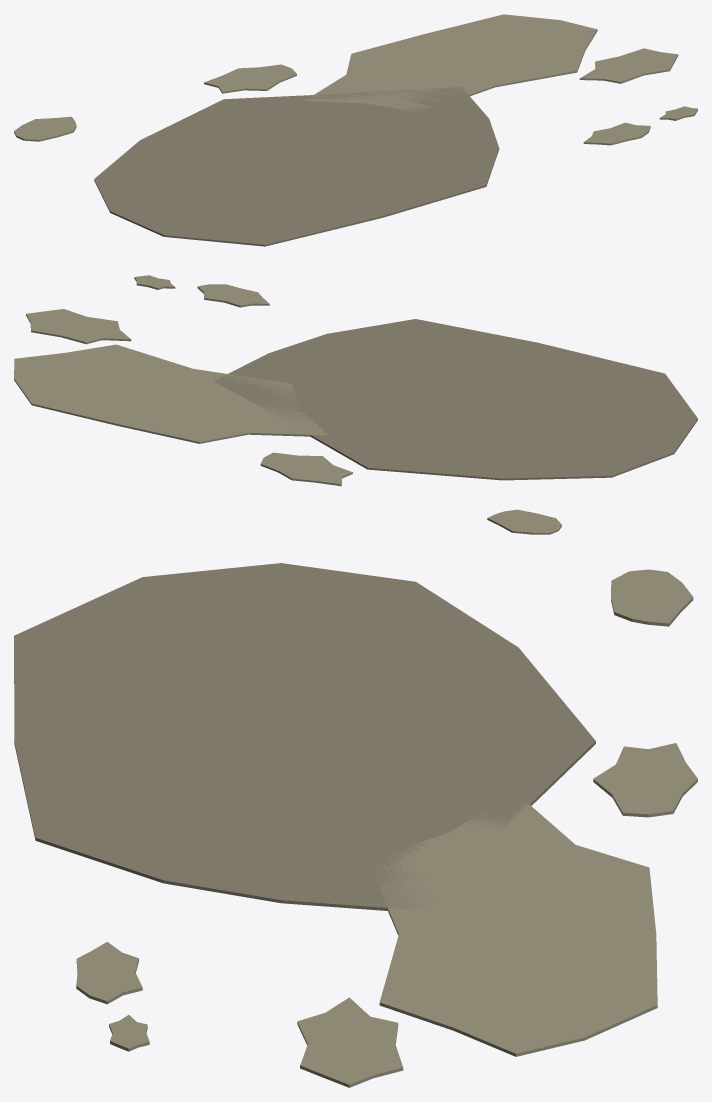
Rendered from Mess-FloorGrime.fbx.
3 views of the same model, one above another, from view 1: azimuth 30°, elevation 25°; view 2: azimuth 150°, elevation 25°; view 3: azimuth 270°, elevation 25° (orthographic). The views are drawn at different scales.
Visible parts, largest first — view 1: Main Scuff, Adjacent Smear, Scuff Fragment.001, Scuff Fragment.004, Scuff Fragment, Scuff Fragment.002; view 2: Main Scuff, Adjacent Smear, Scuff Fragment.001, Scuff Fragment.004, Scuff Fragment, Scuff Fragment.002, Scuff Fragment.003; view 3: Main Scuff, Adjacent Smear, Scuff Fragment.001, Scuff Fragment.004, Scuff Fragment, Scuff Fragment.002, Scuff Fragment.003.
Boxes of the visible parts, x1,y1,x2,y2 form: Main Scuff: (94,87,499,246); Adjacent Smear: (304,14,597,111); Scuff Fragment.001: (579,48,678,83); Scuff Fragment.004: (204,64,296,93); Scuff Fragment: (14,116,76,141); Scuff Fragment.002: (583,122,650,145); Main Scuff: (214,319,697,480); Adjacent Smear: (14,344,327,443); Scuff Fragment.001: (26,309,131,344); Scuff Fragment.004: (260,452,352,486); Scuff Fragment: (487,509,561,534); Scuff Fragment.002: (197,284,269,307); Scuff Fragment.003: (134,275,175,289); Main Scuff: (14,563,595,910); Adjacent Smear: (374,801,657,1056); Scuff Fragment.001: (297,997,403,1087); Scuff Fragment.004: (593,743,697,817); Scuff Fragment: (611,569,693,626); Scuff Fragment.002: (76,941,142,1004); Scuff Fragment.003: (109,1015,149,1051).
Size of the model in its own units: 0.6887 by 0.0019 by 0.3815.
